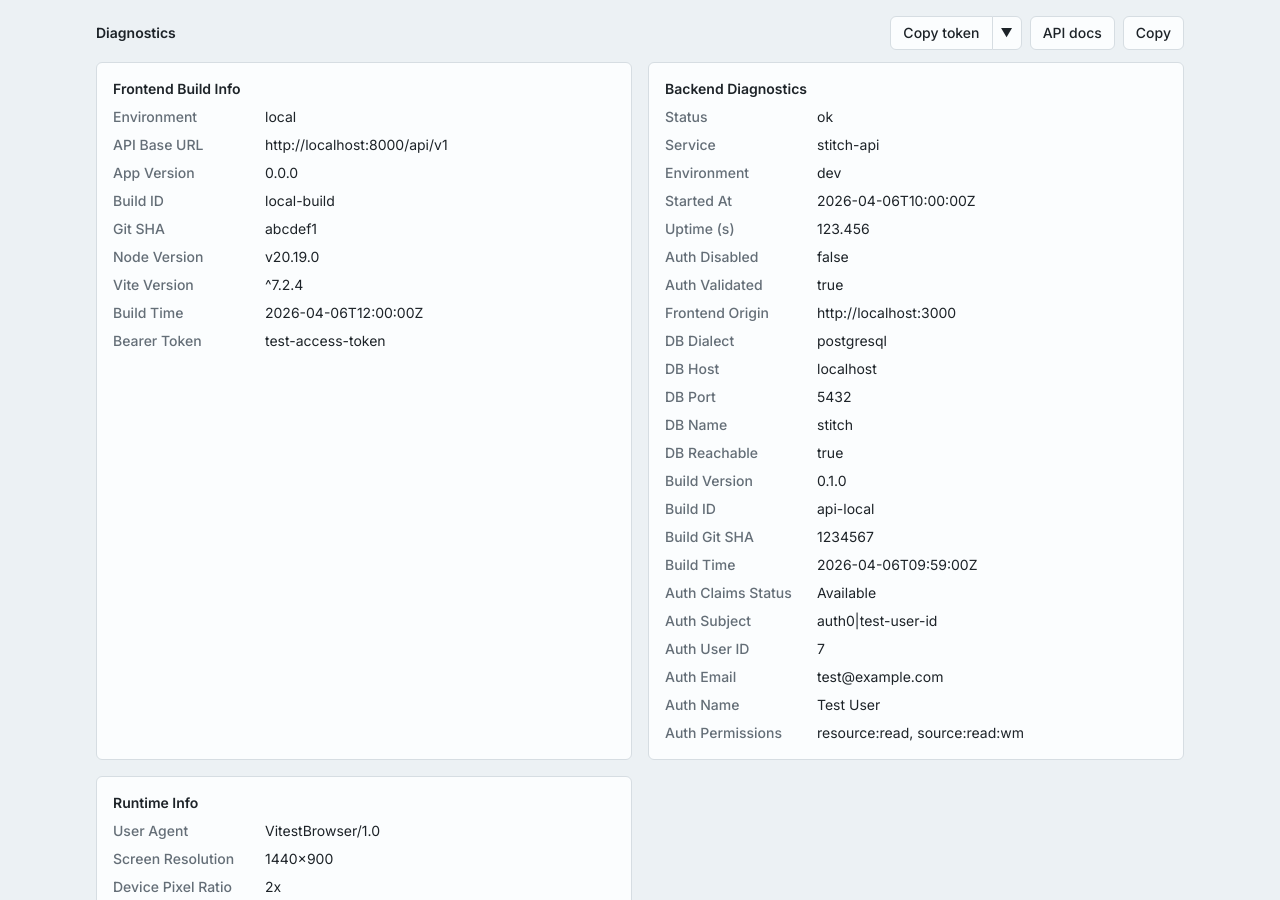
Test: ColophonPanel › shows copy feedback when copying right after a refresh
This screenshot has width=1280, height=900.
expect the text "test-access-token" is shown: met, box [265,332,386,349]
What coordinates should you click on to do the following:
click the button named "More token actions"
I would click on:
 (1007, 33)
Its box is [992,16,1022,50].
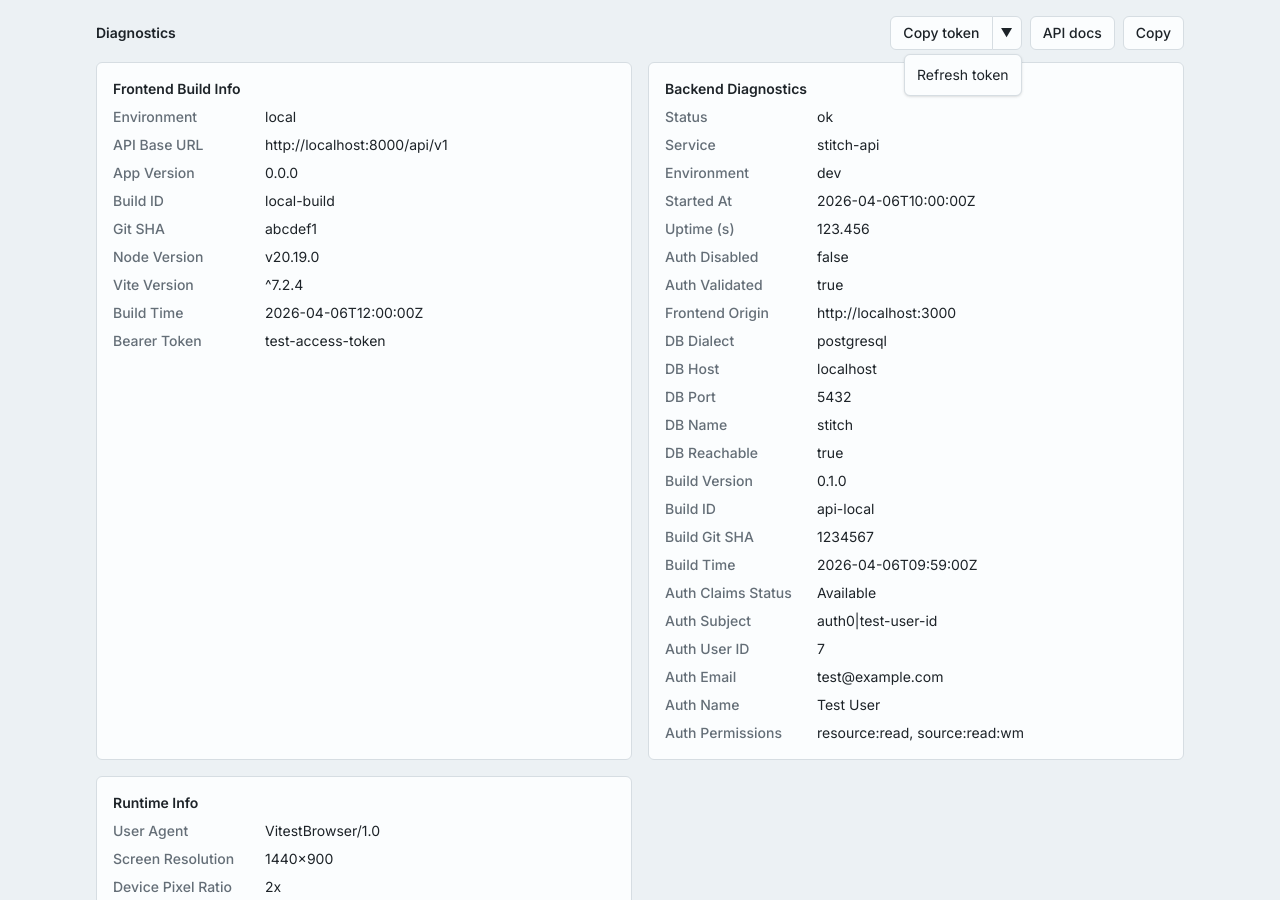
What coordinates should you click on to do the following:
click the button "Refresh token"
I would click on:
 (963, 75)
Its box is [905,59,1021,91].
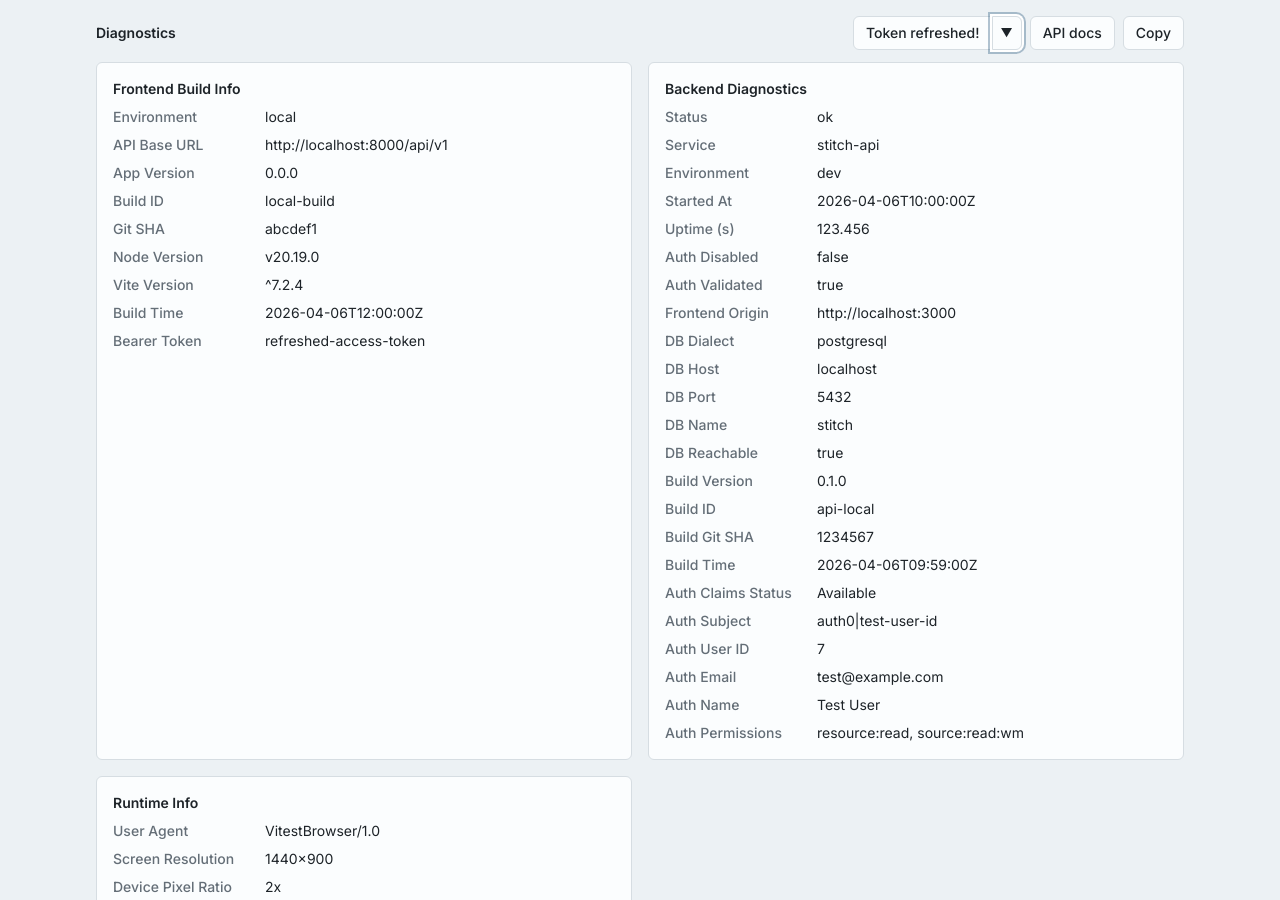
What coordinates should you click on to do the following:
click the button "Token refreshed!"
I would click on:
 (923, 33)
Its box is [853,16,992,50].
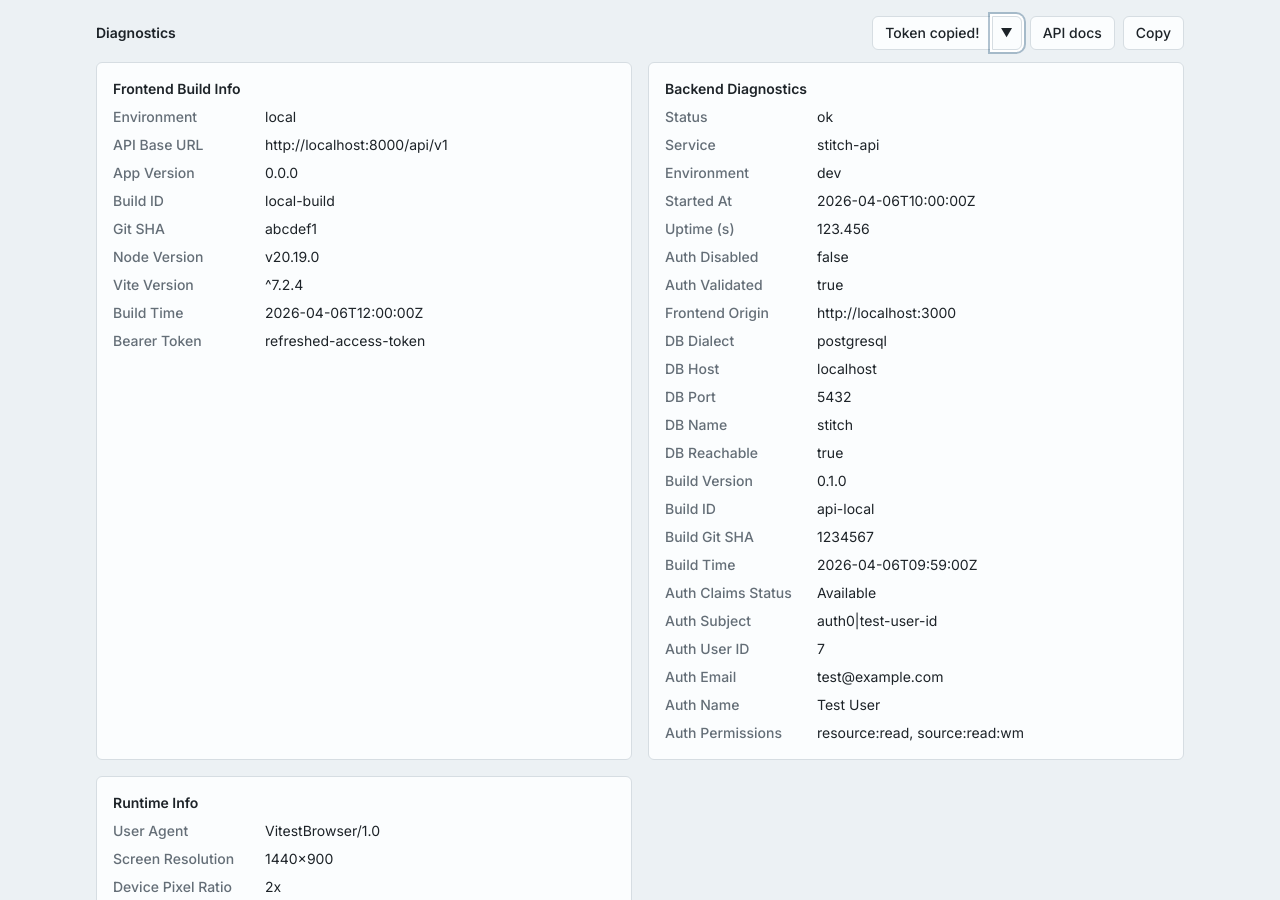
expect the button "Token copied!" is shown: met, box [872,16,993,50]
